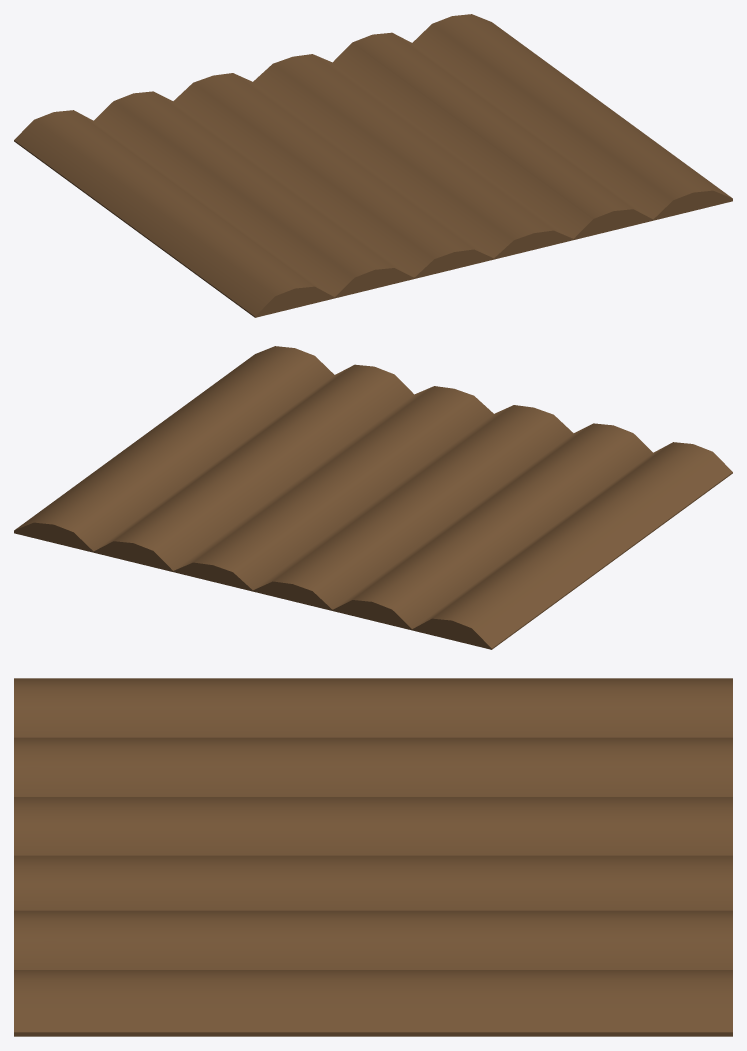
The model's file is farm_land.fbx.
3 views of the same model, one above another, from view 1: azimuth 30°, elevation 25°; view 2: azimuth 150°, elevation 25°; view 3: azimuth 270°, elevation 25° (orthographic). The views are drawn at different scales.
Parts seen in each view (by area): view 1: pCube3; view 2: pCube3; view 3: pCube3.
Part boxes in pixels (left/top/right/bottom): pCube3: left=14, top=14, right=732, bottom=317; pCube3: left=14, top=346, right=732, bottom=649; pCube3: left=14, top=678, right=732, bottom=1036.
Size of the model in its own units: 1 by 0.0393 by 0.8741.
